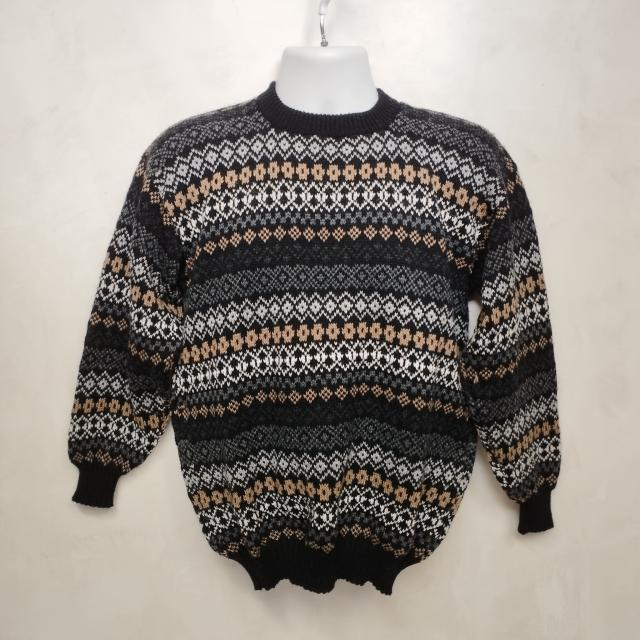Chompa: (68, 54, 562, 596)
